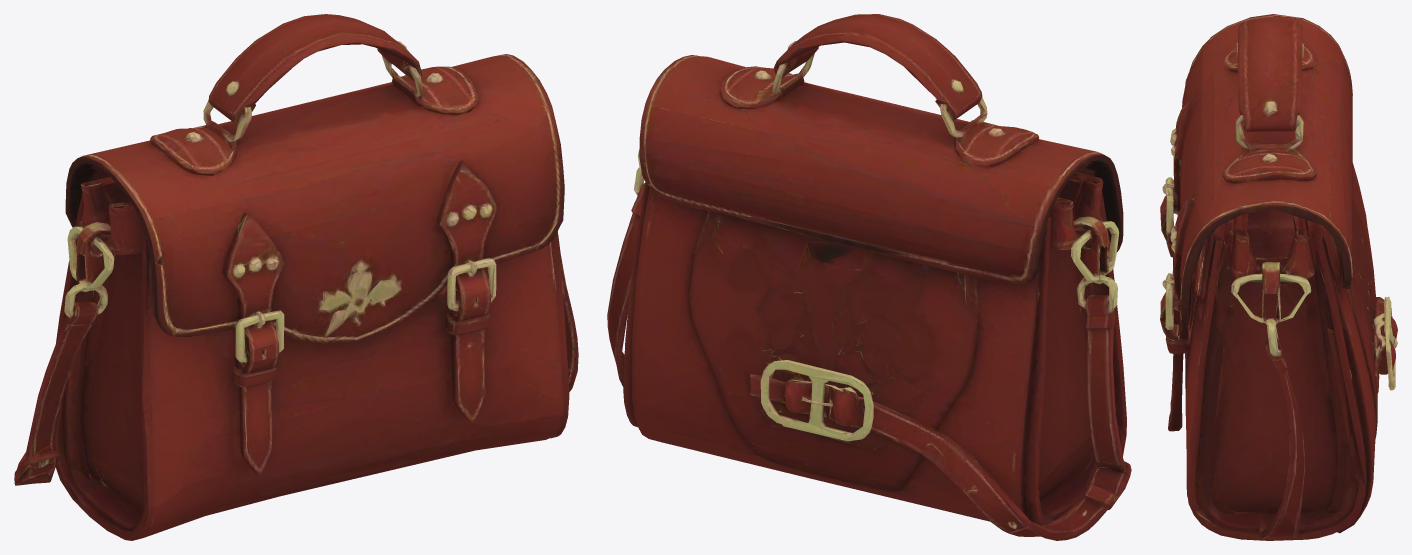
File: satchel.glb
The picture shows the model from 3 angles, left to right: view 1: azimuth 30°, elevation 25°; view 2: azimuth 150°, elevation 25°; view 3: azimuth 270°, elevation 25°; orthographic projection. The views are drawn at different scales.
Size of the model in its own units: 1.9 by 1.49 by 0.7712.
1 material, 1 textured.
